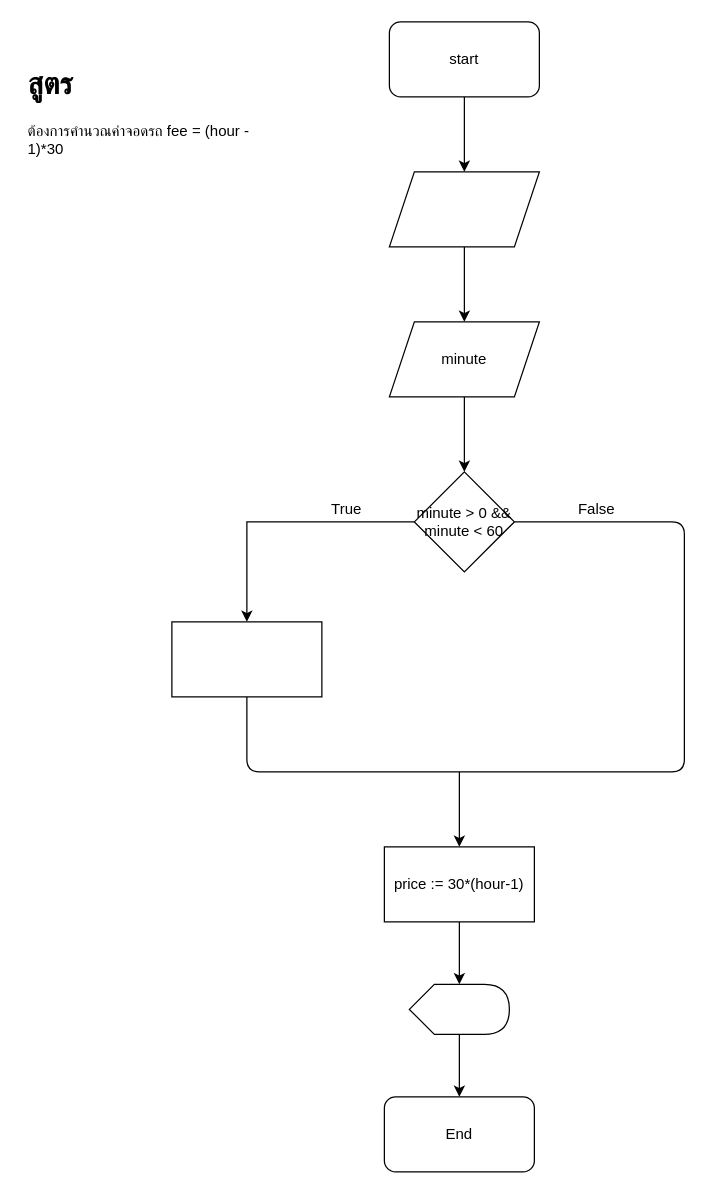
This 708x1194 diagram has some shape labels left out. Each missing label, with the centre of its shape:
"hour" belongs at point 463,209.
"hour += 1" belongs at point 246,659.
"price" belongs at point 458,1008.
